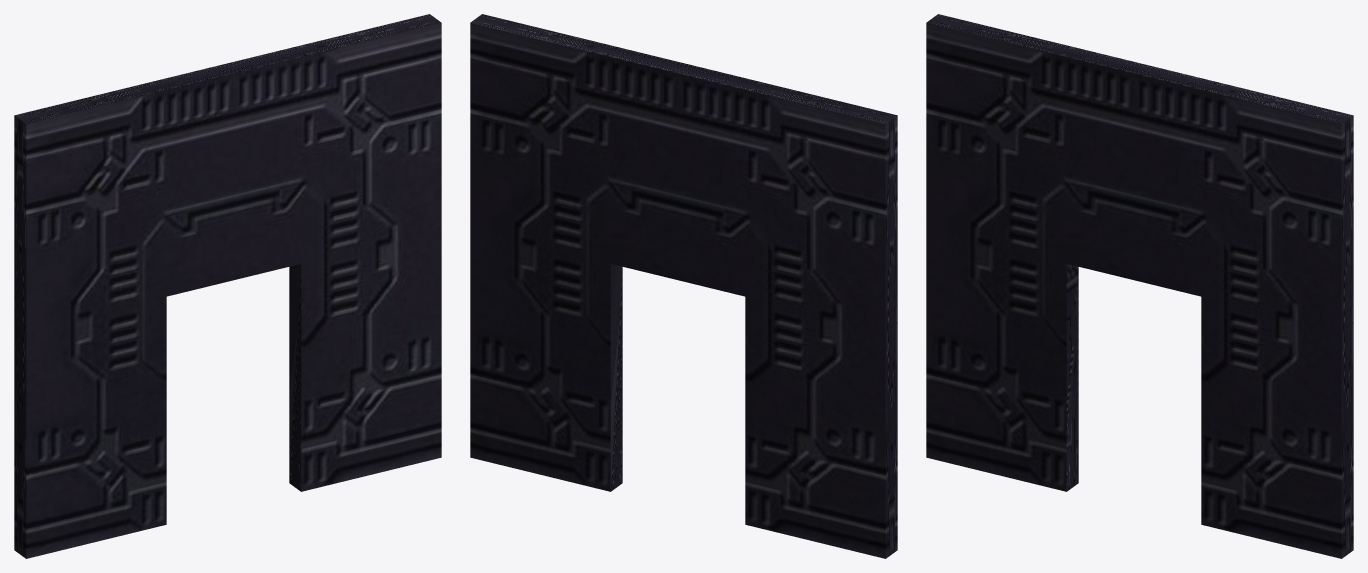
The model's file is doorway_piece.FBX.
3 views of the same model, side by side, from view 1: azimuth 30°, elevation 25°; view 2: azimuth 150°, elevation 25°; view 3: azimuth 330°, elevation 25° (orthographic).
Parts seen in each view (by area): view 1: doorway_piece; view 2: doorway_piece; view 3: doorway_piece.
Part boxes in pixels (box(x1,y1,x2,y2)): doorway_piece: box(14, 14, 441, 558); doorway_piece: box(470, 14, 897, 558); doorway_piece: box(926, 14, 1353, 558).
Size of what is drawn, in the model's own units: 400 by 20 by 400.
1 material, 1 textured.
